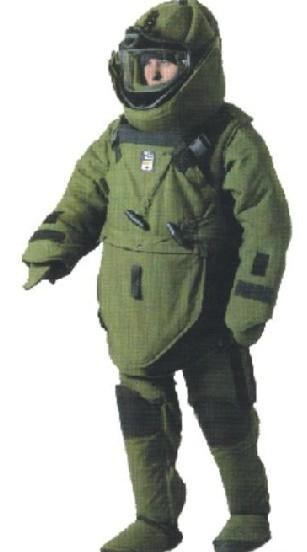WRONG: (139, 50, 192, 103)
